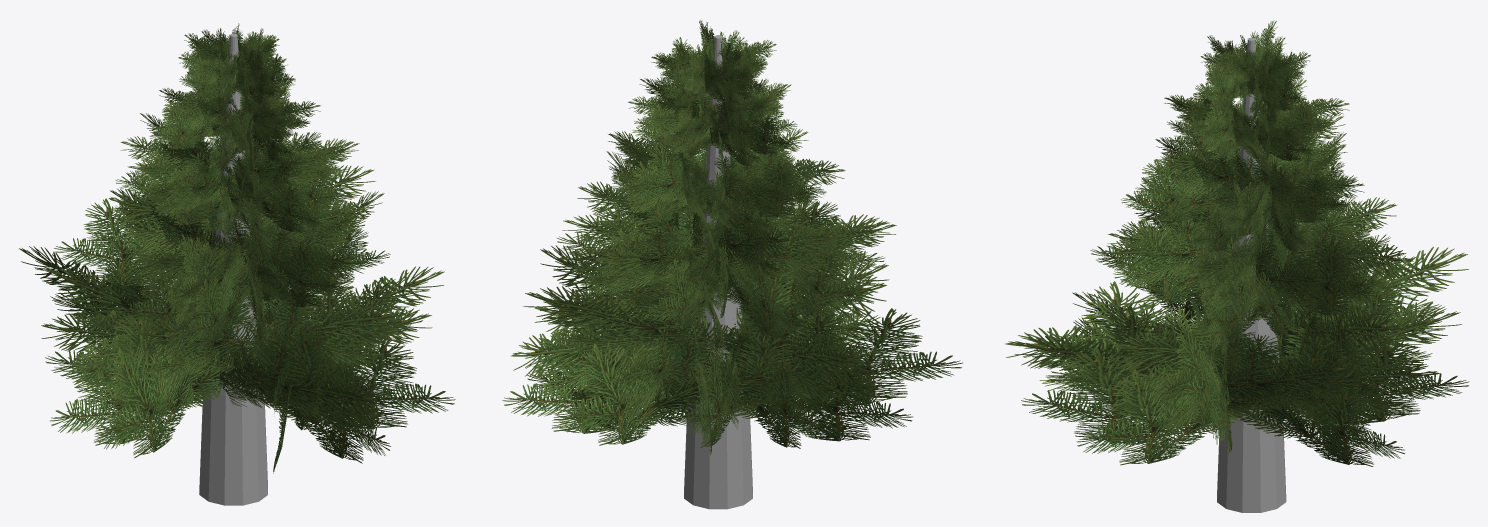
The model's file is SM_Tree2.fbx.
The picture shows the model from 3 angles, left to right: view 1: azimuth 30°, elevation 25°; view 2: azimuth 150°, elevation 25°; view 3: azimuth 270°, elevation 25°; orthographic projection.
Parts seen in each view (by area): view 1: MASH1_ReproMesh5; view 2: MASH1_ReproMesh5; view 3: MASH1_ReproMesh5.
Part boxes in pixels (x1,y1,x2,y2): MASH1_ReproMesh5: (19, 23, 455, 505); MASH1_ReproMesh5: (502, 20, 962, 509); MASH1_ReproMesh5: (1005, 20, 1469, 512).
Size of the model in its own units: 826 by 914 by 840.
